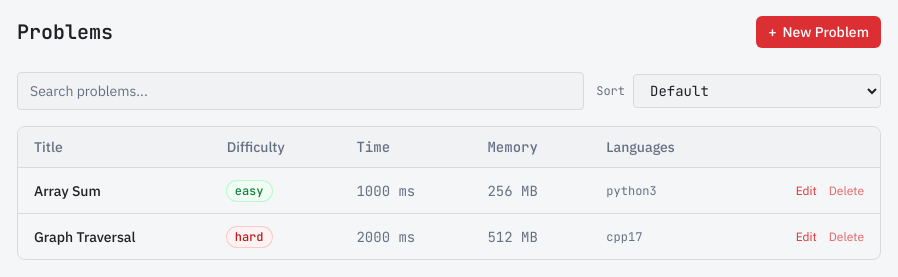
Test: ProblemsPage › filters problems by title search
This screenshot has width=898, height=277.
Check: the link "Array Sum" is shown, box [34,182,101,200]
Check: the link "Graph Traversal" is shown, box [34,228,136,246]
Type "graph" into the field with placeholder "Search problems...". click: (301, 91)
box: [17,72,584,110]
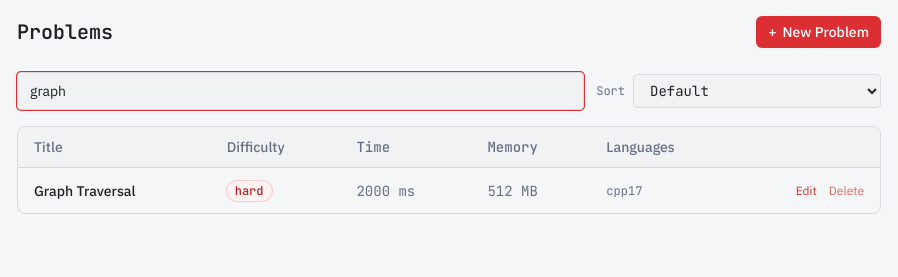
Check: the link "Graph Traversal" is shown, box [34,182,136,200]
Check: the link "Array Sum" is gone
Replace the text in the field with placeholder "Search problems..." with "missing". click: (301, 91)
box: [17,72,584,110]
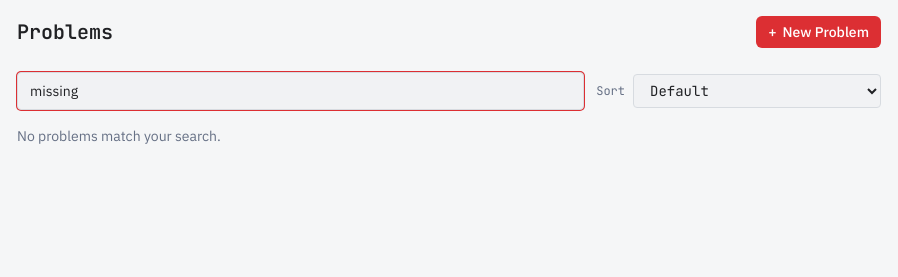
Check: the text "No problems match your search." is shown, box [17,127,221,145]
